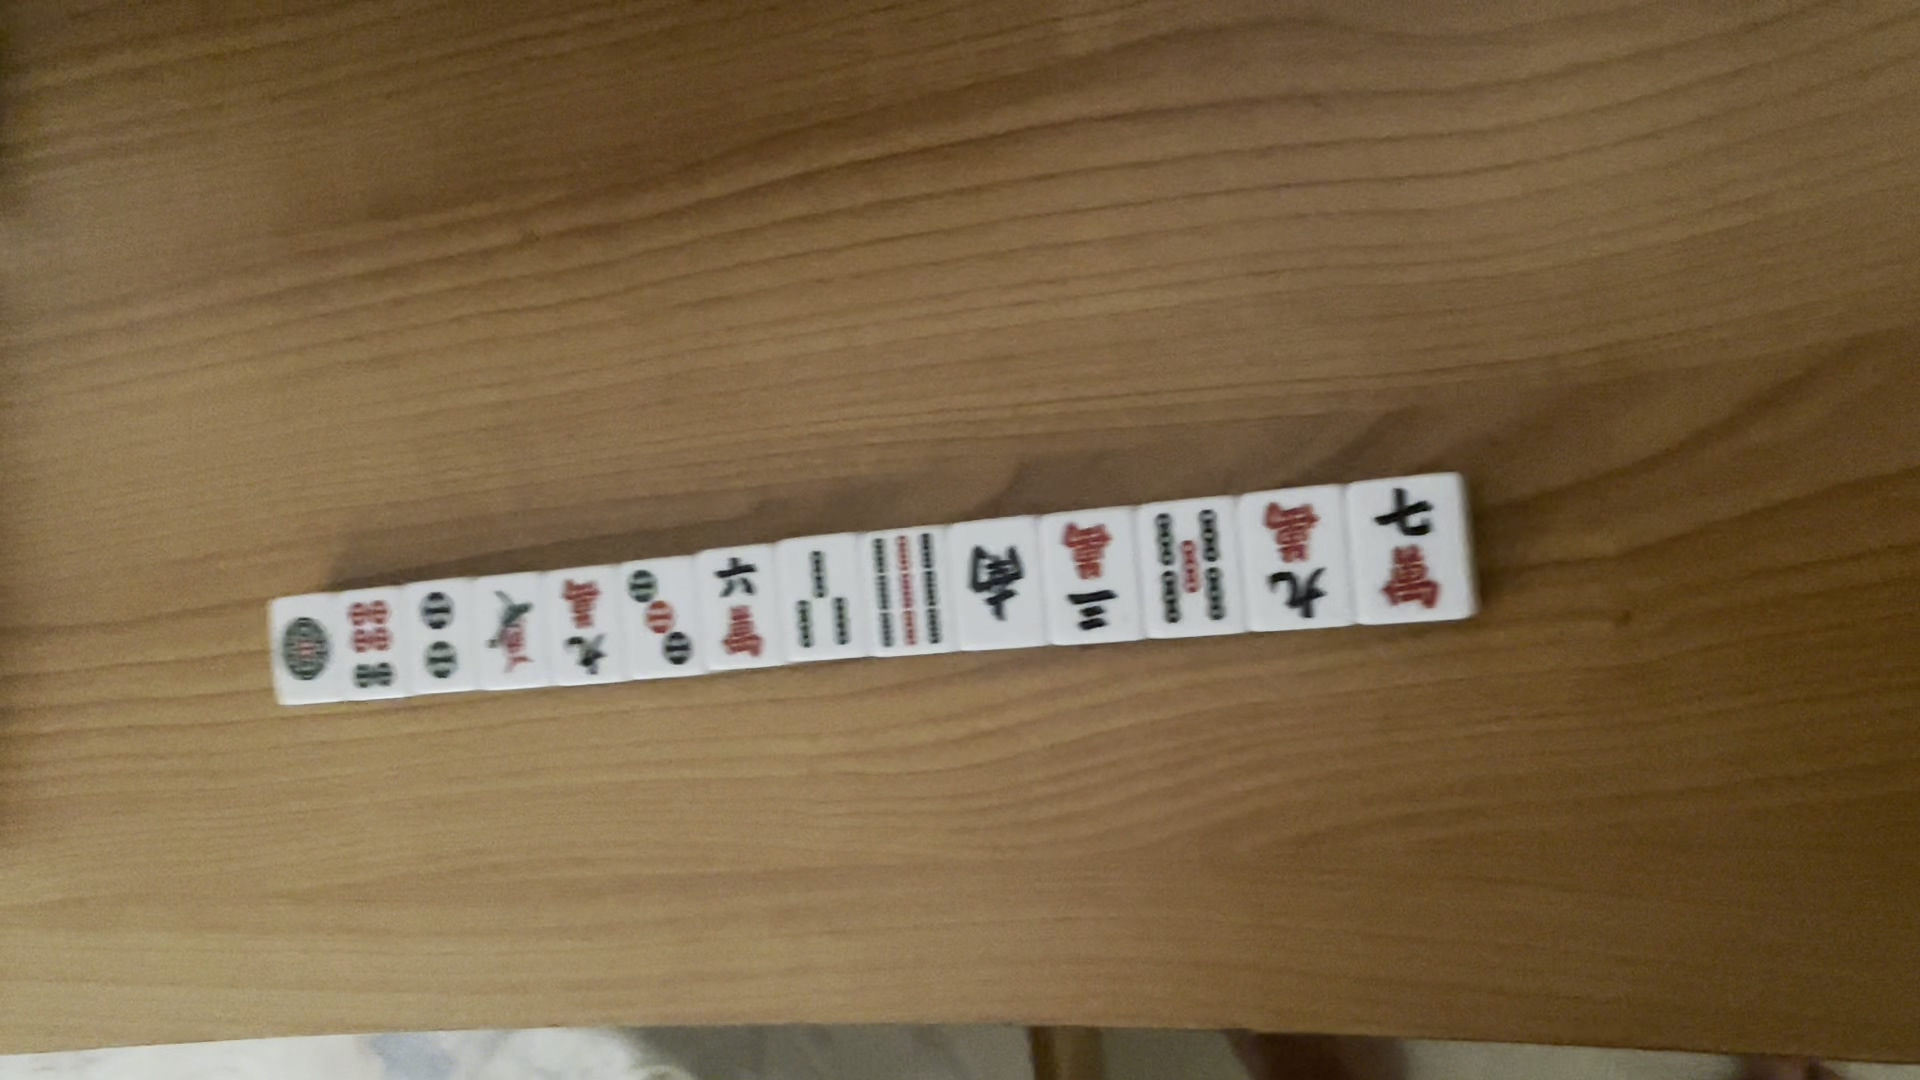b-1: (484, 588, 542, 673)
b-3: (783, 538, 857, 650)
b-5: (1149, 504, 1241, 632)
b-9: (866, 527, 952, 647)
c-3: (1054, 521, 1122, 636)
c-6: (709, 554, 771, 655)
c-7: (1357, 480, 1448, 612)
c-9: (1258, 495, 1327, 621), (560, 574, 613, 676)
d-1: (270, 608, 332, 688)
d-2: (415, 592, 462, 686)
d-3: (629, 567, 698, 673)
d-6: (342, 597, 404, 694)
honors-south: (960, 530, 1031, 626)
